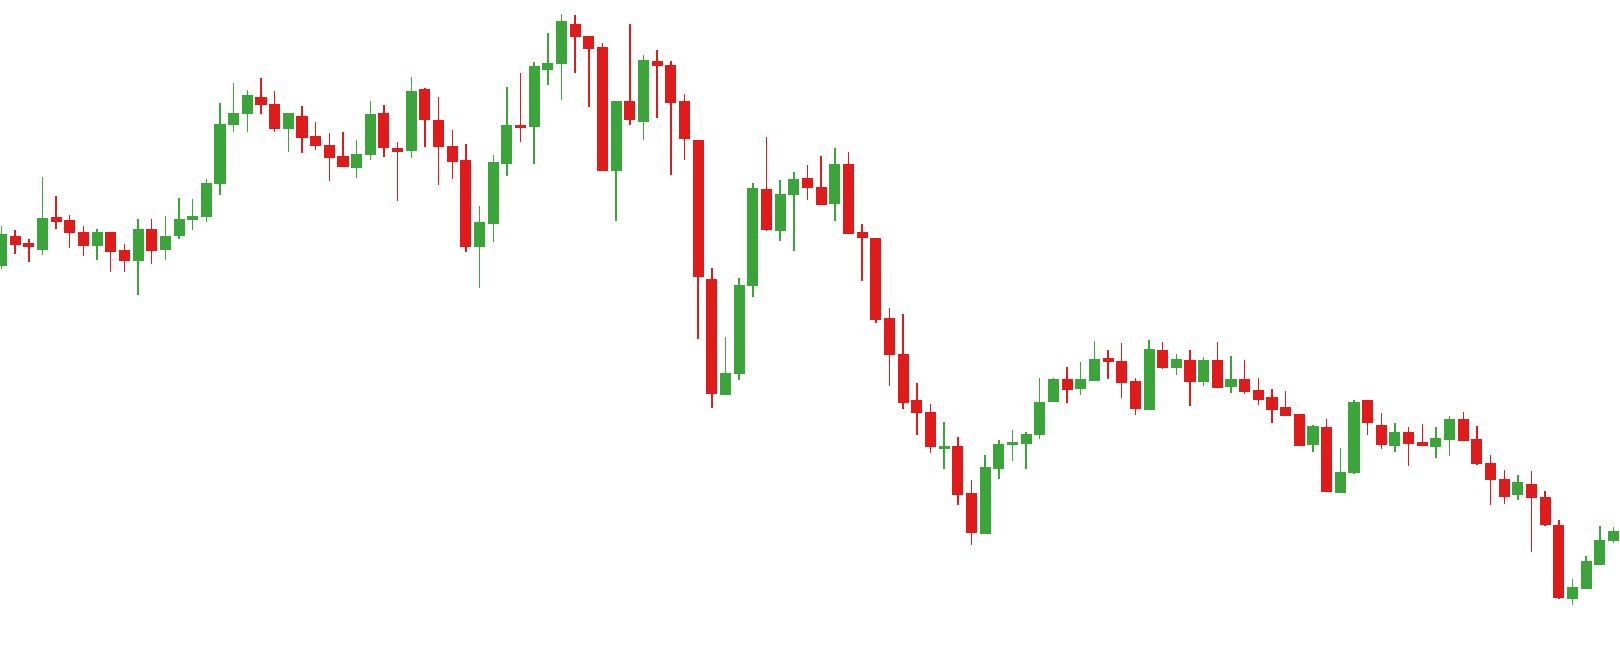buy: (392, 127, 502, 290)
